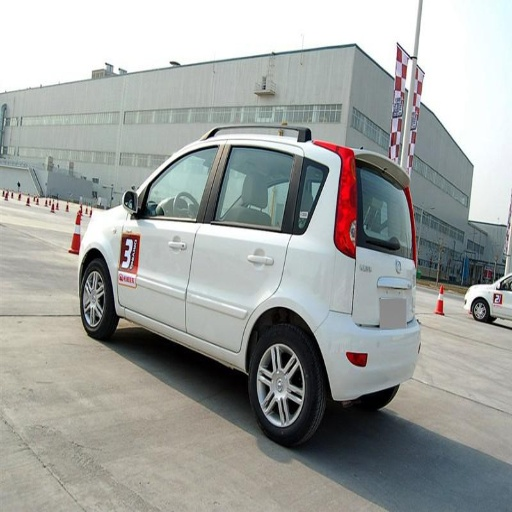back_left_door: (187, 140, 302, 352)
trunk: (351, 254, 410, 326)
